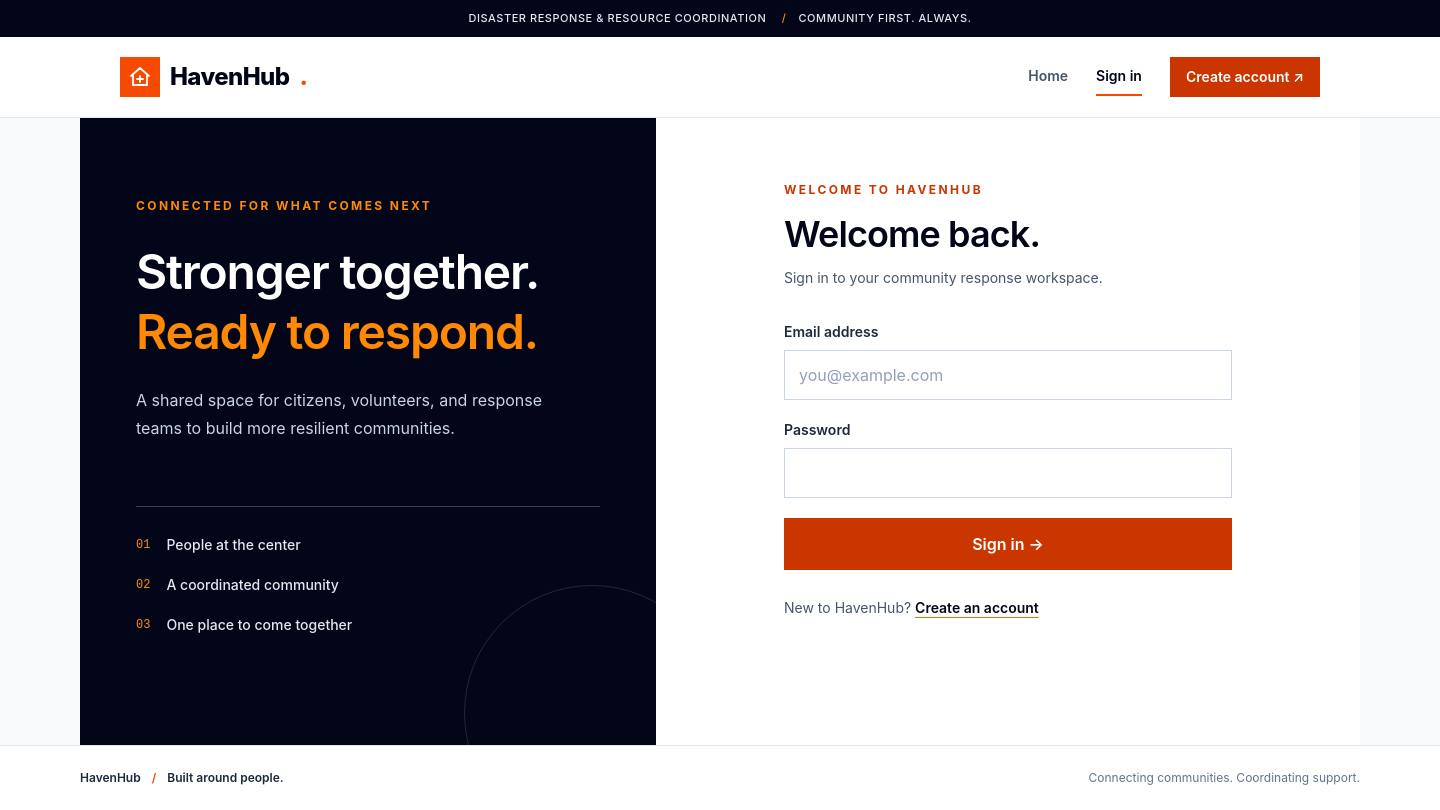
Test case: shows invalid credentials without creating a session
This screenshot has width=1440, height=810.
Type "asha@example.com" into the field labelled "Email address" at (1008,374), box [784,350,1232,400]
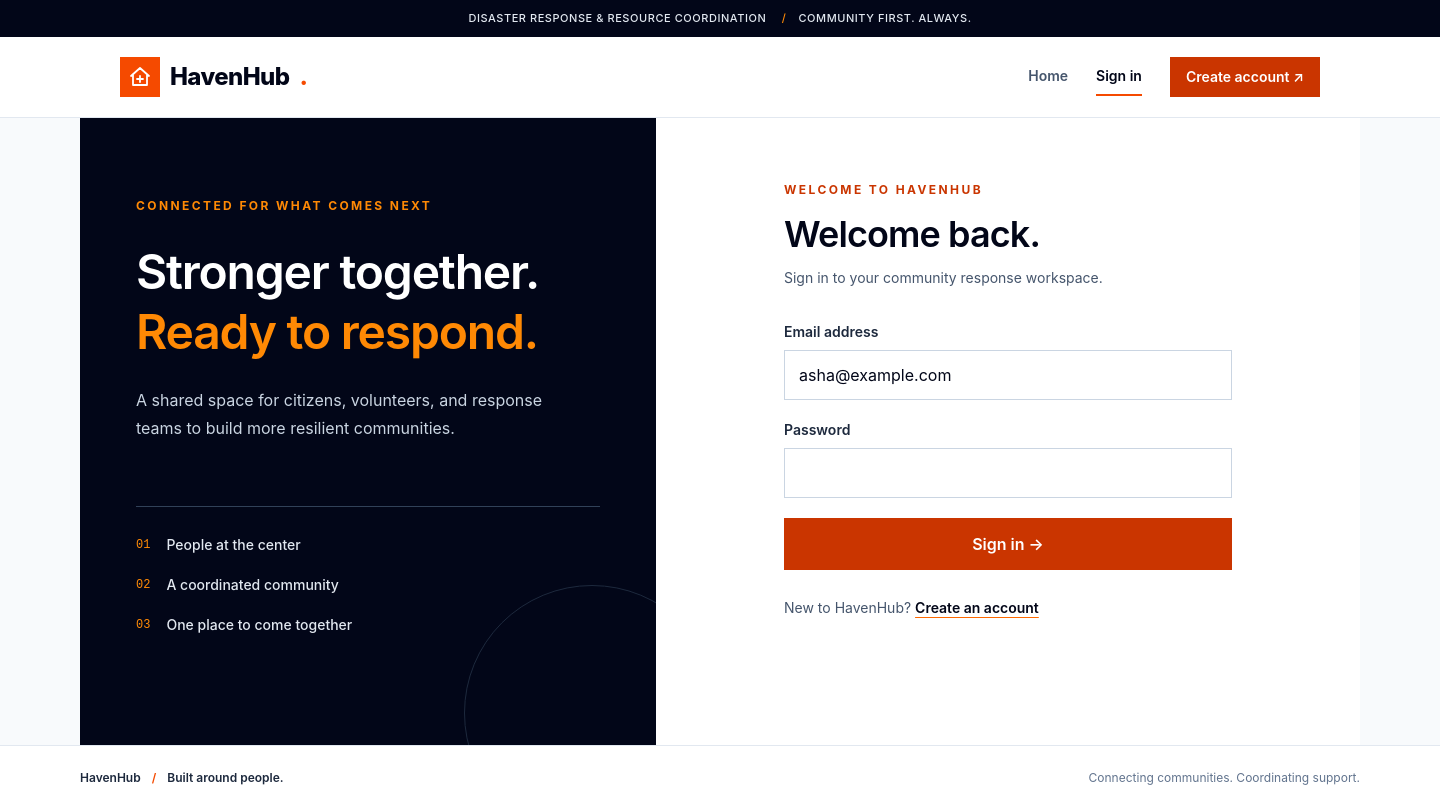
Type "Test password 123!" into the password field labelled "Password" at (1008,472), box [784,448,1232,498]
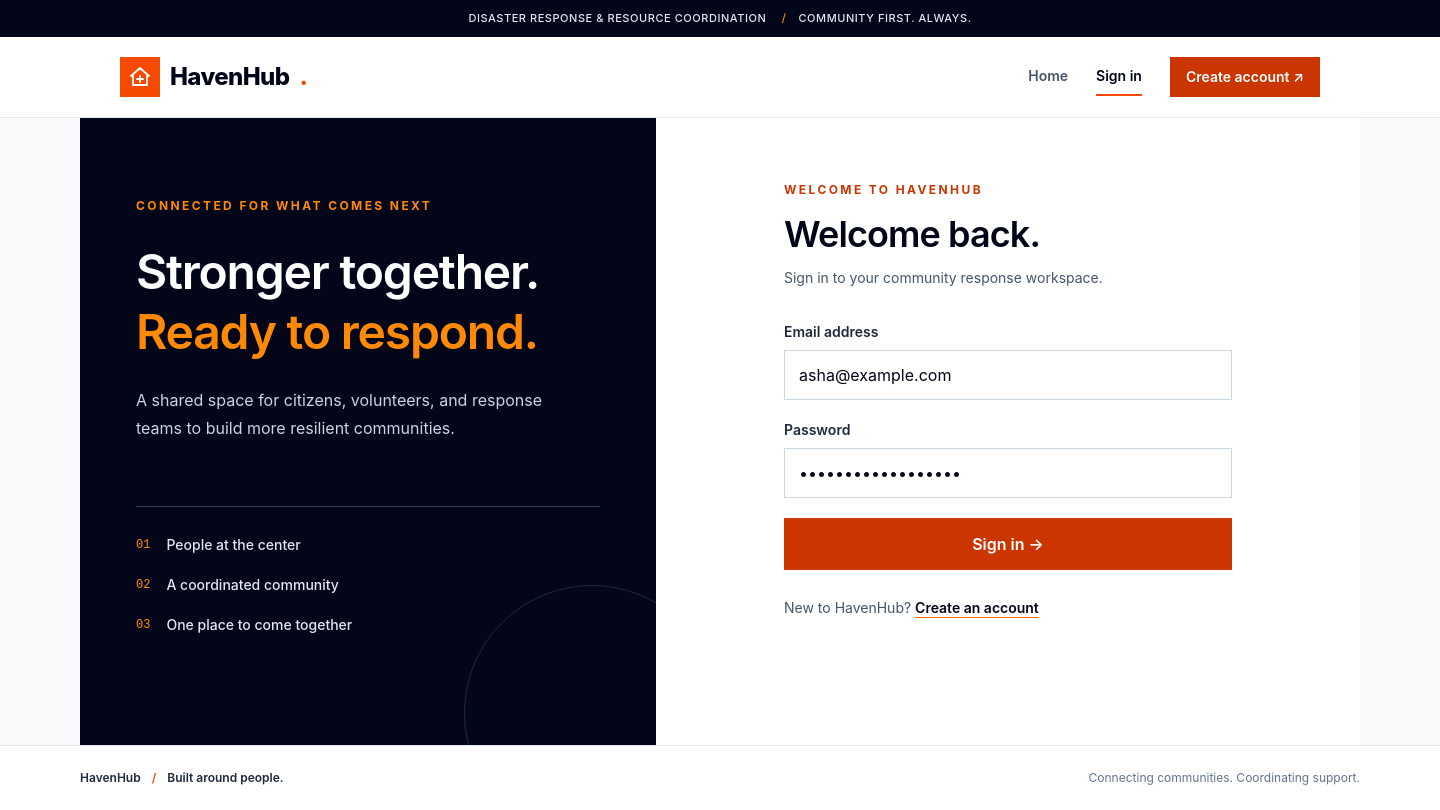
Click the button "Sign in →" at (1008,544), box [784,518,1232,570]
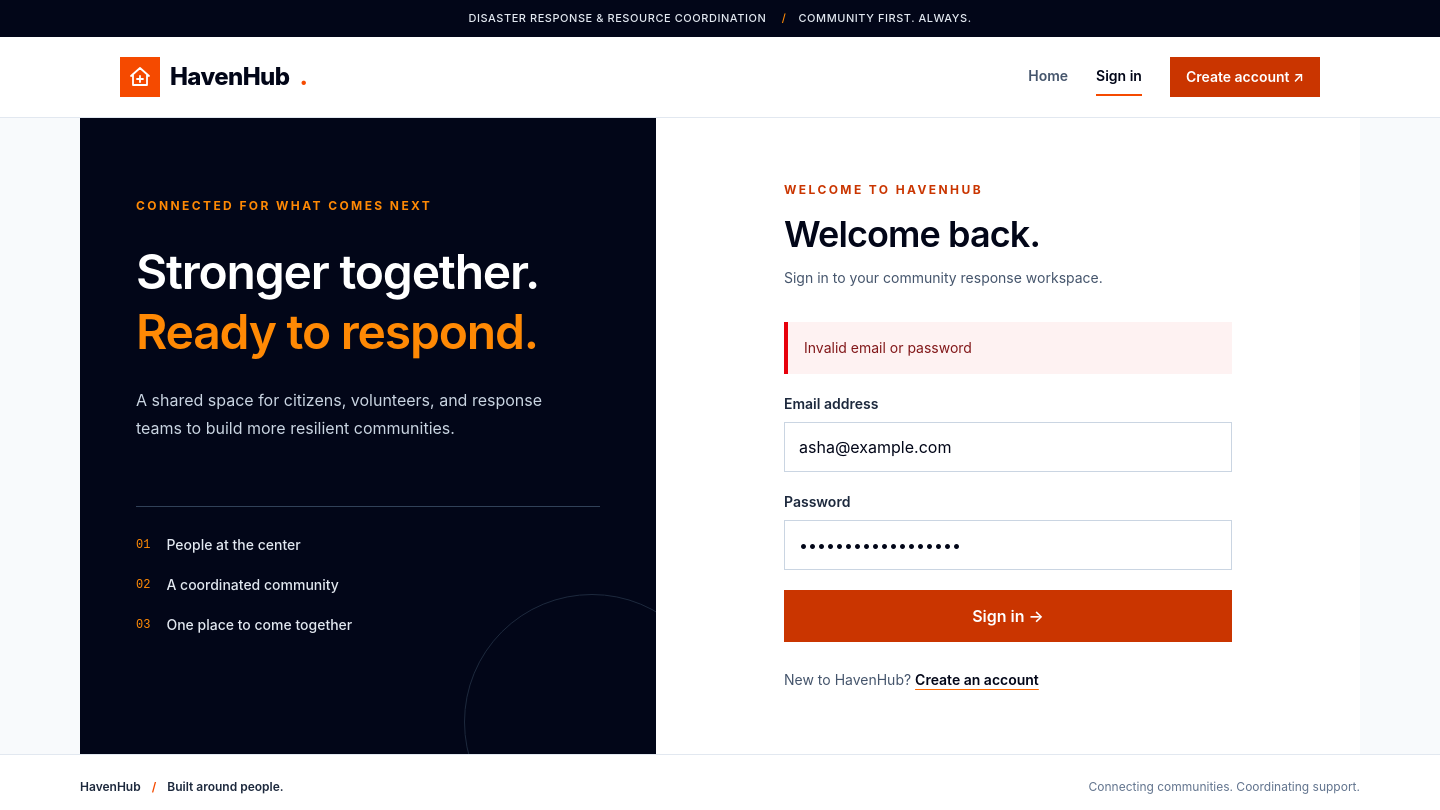
Expected: the heading "Welcome back." is shown, [784,212,1040,256]
Now the message reads "Invalid email or password", box [804,338,972,356]
